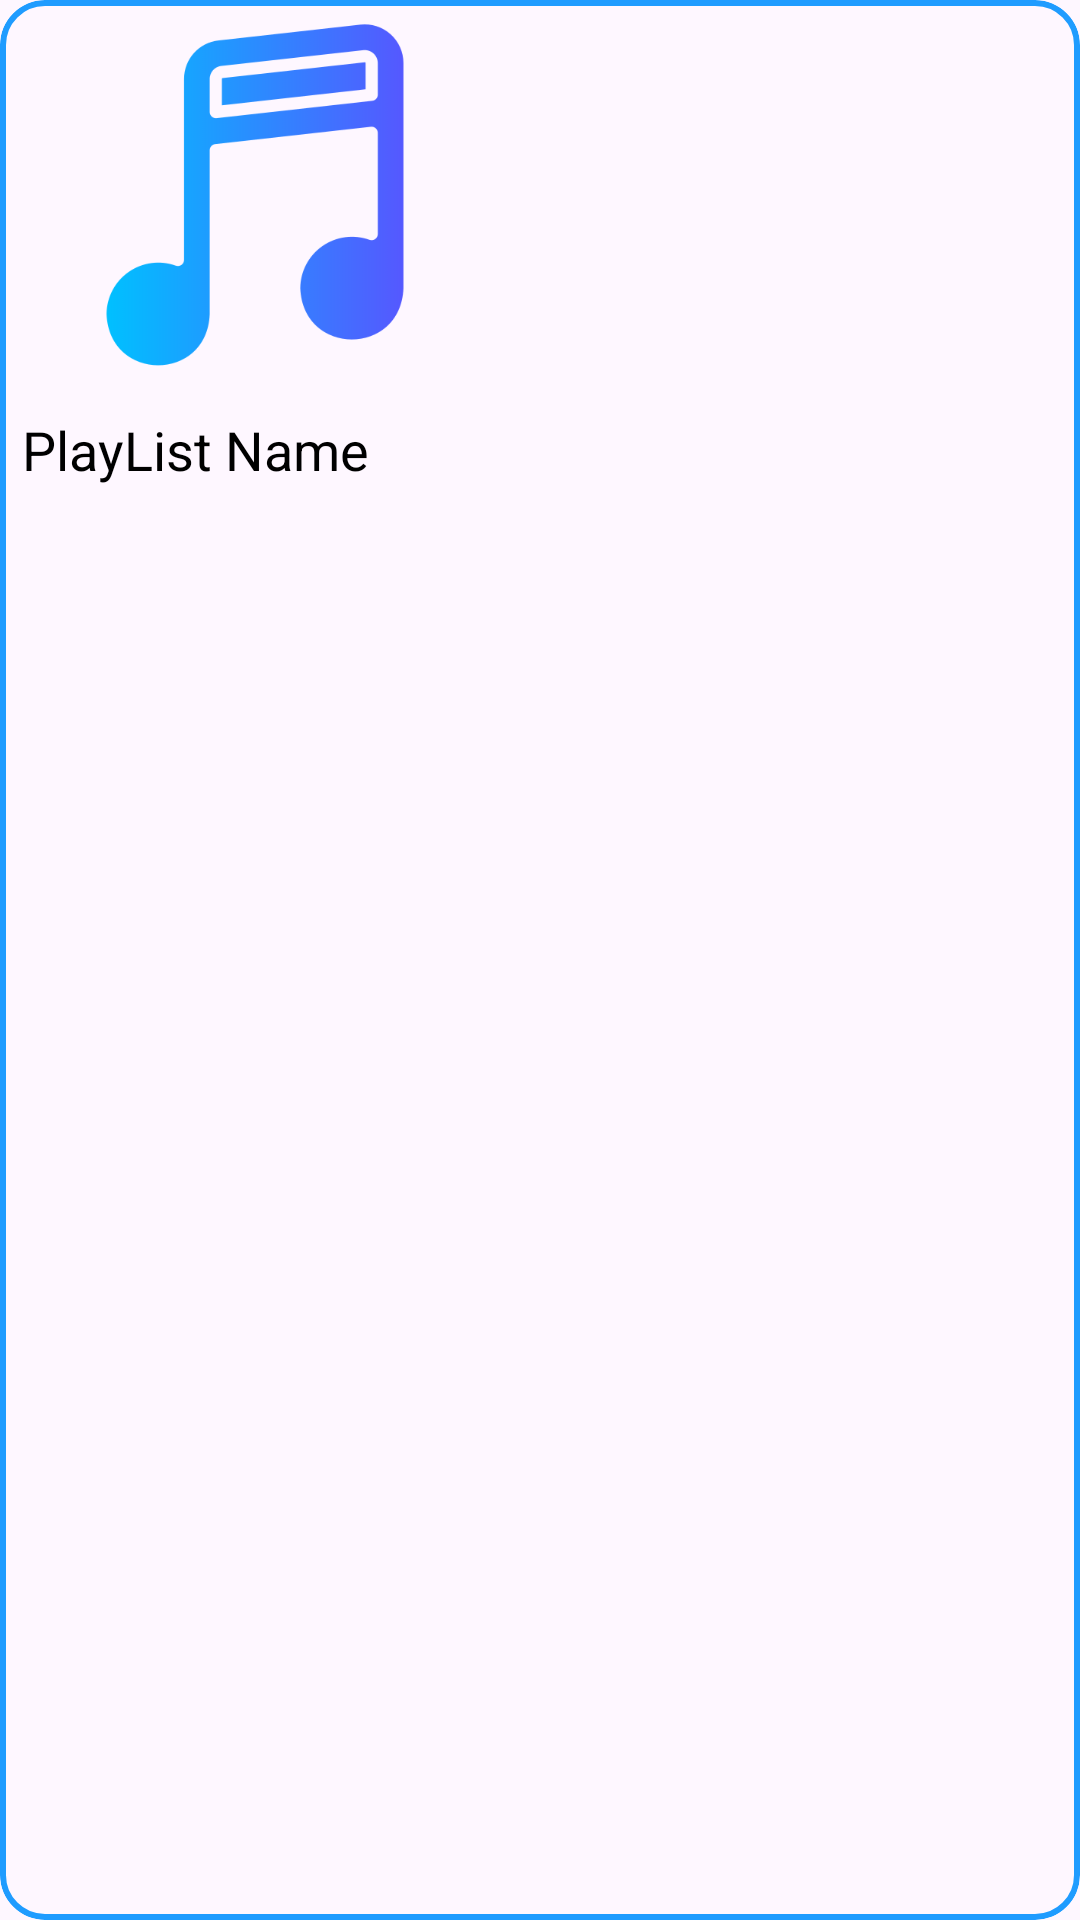

Icons on this 1080×1920 Android screen, each with the point to tap as (x=x, y=y):
song img: (x=255, y=195)
